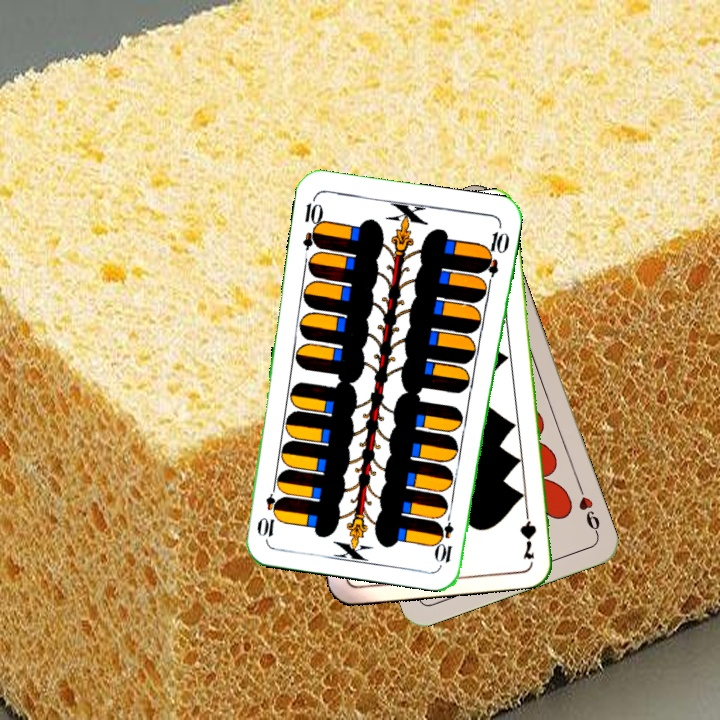E10: (299, 194, 326, 253), (436, 506, 457, 566)
G7: (516, 502, 539, 562)
H9: (574, 481, 603, 538)
